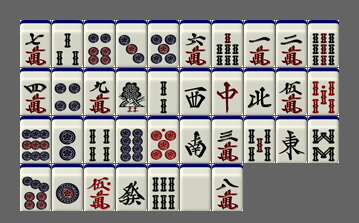0m: (84, 164, 115, 211)
0p: (148, 116, 179, 163)
0s: (308, 68, 339, 115)
1m: (244, 20, 275, 67)
1p: (52, 164, 83, 211)
1s: (116, 68, 147, 115)
1z: (276, 116, 307, 163)
2m: (276, 20, 307, 67)
2p: (52, 116, 83, 163)
2s: (148, 68, 179, 115)
2z: (180, 116, 211, 163)
3m: (212, 116, 243, 163)
3p: (116, 20, 147, 67)
3s: (52, 20, 83, 67)
3z: (180, 68, 211, 115)
4m: (20, 68, 51, 115)
4p: (52, 68, 83, 115)
4s: (84, 116, 115, 163)
4z: (244, 68, 275, 115)
5m: (276, 68, 307, 115)
5p: (148, 20, 179, 67)
5s: (244, 116, 275, 163)
5z: (180, 164, 211, 211)
6m: (180, 20, 211, 67)
6p: (84, 20, 115, 67)
6s: (148, 164, 179, 211)
6z: (116, 164, 147, 211)
7m: (20, 20, 51, 67)
7p: (20, 164, 51, 211)
7s: (212, 20, 243, 67)
7z: (212, 68, 243, 115)
8m: (212, 164, 243, 211)
8p: (116, 116, 147, 163)
8s: (308, 116, 339, 163)
9m: (84, 68, 115, 115)
9p: (20, 116, 51, 163)
9s: (308, 20, 339, 67)
